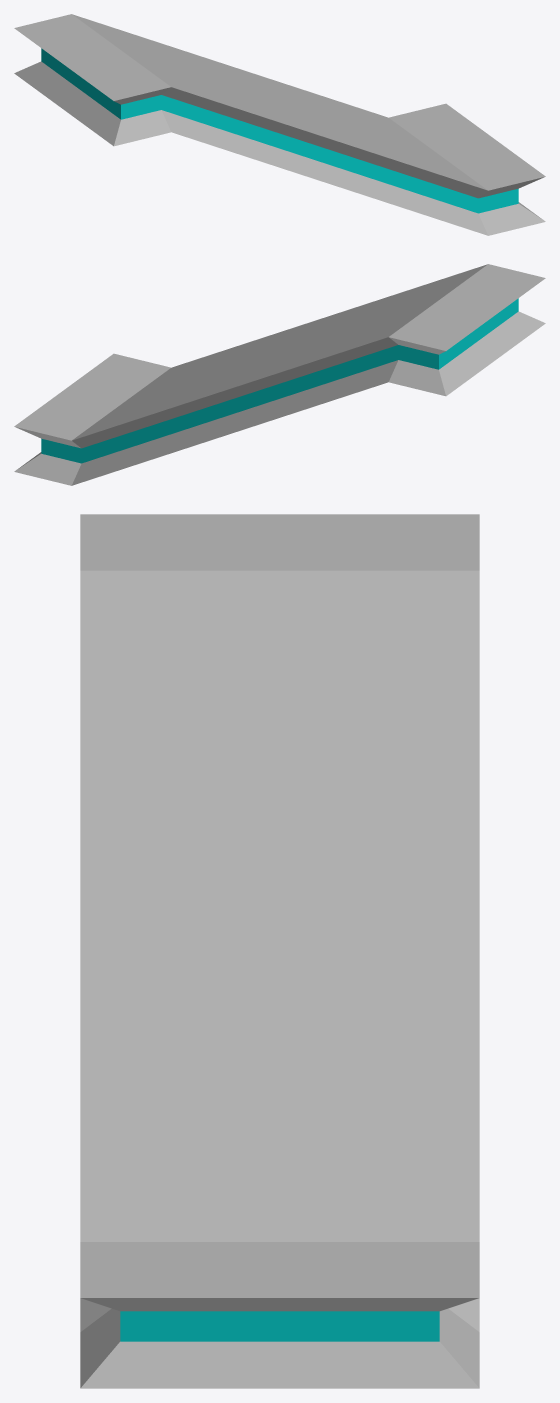
Rendered from BasicPlatformRamp.fbx.
The picture shows the model from 3 angles, top to bottom: view 1: azimuth 30°, elevation 25°; view 2: azimuth 150°, elevation 25°; view 3: azimuth 270°, elevation 25°; orthographic projection. The views are drawn at different scales.
Parts seen in each view (by area): view 1: Cube; view 2: Cube; view 3: Cube.
Boxes of the visible parts, left/top/right/bottom form: Cube: left=14, top=14, right=545, bottom=235; Cube: left=14, top=264, right=545, bottom=485; Cube: left=80, top=514, right=479, bottom=1388.
Size of the model in its own units: 500 by 250 by 200.
